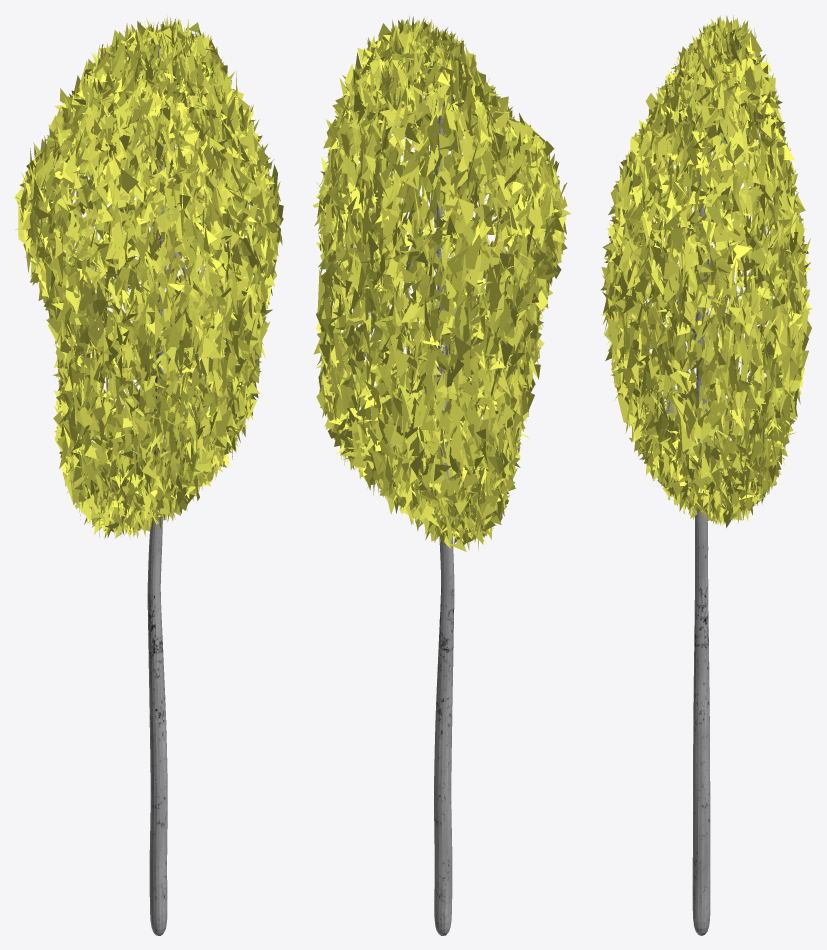
File: Leaves14.fbx
The picture shows the model from 3 angles, left to right: view 1: azimuth 30°, elevation 25°; view 2: azimuth 150°, elevation 25°; view 3: azimuth 270°, elevation 25°; orthographic projection.
Visible parts, largest first — view 1: Leaves14; view 2: Leaves14; view 3: Leaves14.
Part boxes in pixels (x1,y1,x2,y2): Leaves14: (14,15,283,935); Leaves14: (312,15,570,935); Leaves14: (600,15,811,935).
Bounding box in the file's own units: 739 × 2626 × 550.
Materials: 2 (1 with a texture image).
